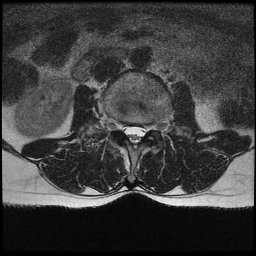CCS_normal: (130, 117, 138, 152)
LFS_stenosis: (146, 117, 156, 140)
LLS_normal: (138, 119, 146, 147)
RFS_normal: (113, 111, 122, 138)
RLS_normal: (122, 119, 130, 146)
